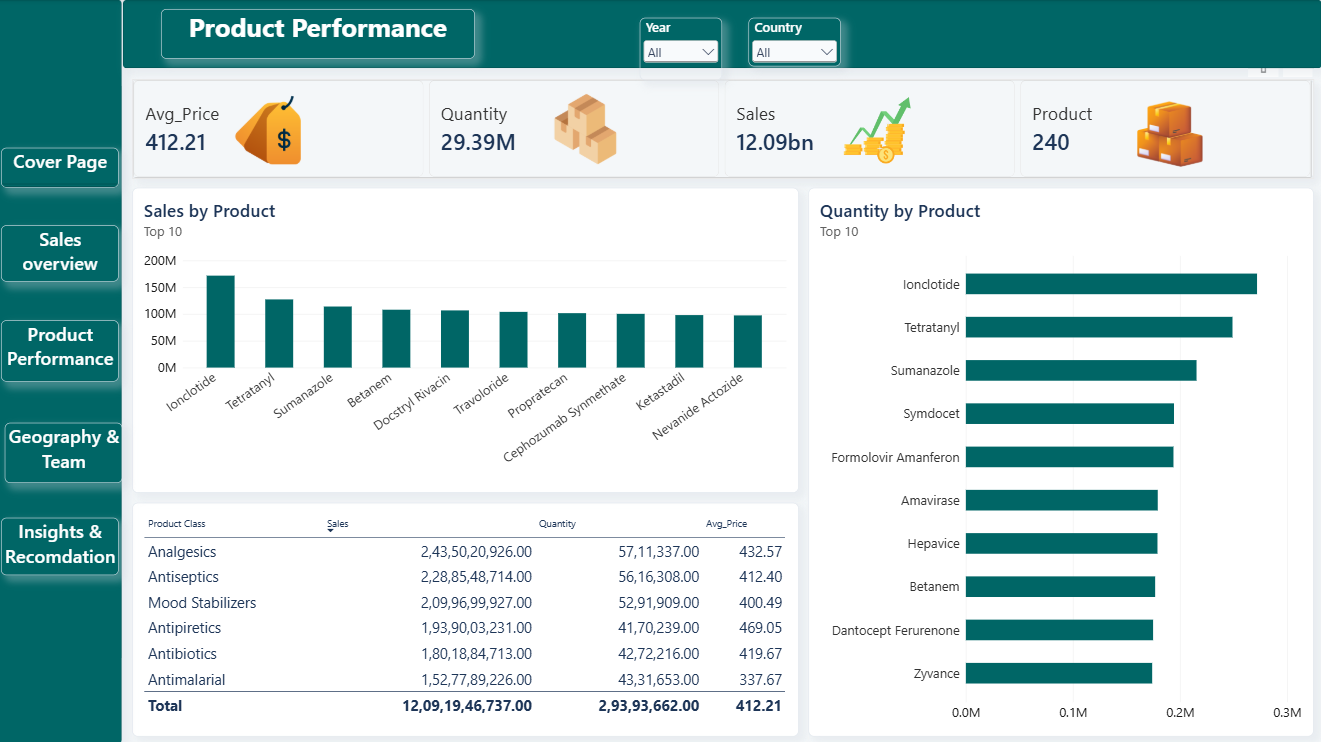

The dashboard page shown, as its layout file describes it:
{"tool":"powerbi","page":{"name":"Product Performance","canvas":[1920,1080],"ordinal":2},"visuals":[{"type":"cardVisual","fields":{"Data":["pharma-data.avg_price","pharma-data.total_quantity","pharma-data.total_sales","pharma-data.Product"]},"box":[197.3,115.8,1710.1,144.8],"z":0},{"type":"tableEx","fields":{"Values":["pharma-data.Product Class","pharma-data.total_sales","pharma-data.total_quantity","pharma-data.avg_price"]},"box":[197.3,729.3,964.5,338.4],"z":1000},{"type":"columnChart","title":"Sales by Product ","fields":{"Category":["pharma-data.Product Name"],"Y":["Sum(pharma-data.Sales)"]},"box":[197.3,273.3,964.5,441.6],"z":2000},{"type":"shape","box":[0,0,183.2,1080.6],"z":3000},{"type":"clusteredBarChart","title":"Quantity by Product","fields":{"Category":["pharma-data.Product Name"],"Y":["pharma-data.total_quantity"]},"box":[1176.3,273.3,731.1,794.4],"z":4000},{"type":"shape","box":[182.7,0,1737.3,101.3],"z":5000},{"type":"slicer","fields":{"Values":["pharma-data.Year"]},"box":[932,27.1,119.4,90.5],"z":6000},{"type":"slicer","fields":{"Values":["pharma-data.Country"]},"box":[1089.4,27.1,133.9,70.6],"z":7000},{"type":"textbox","box":[238.9,14.5,454.2,72.4],"z":8000},{"type":"image","box":[790.8,133.9,124.9,108.6],"z":9000},{"type":"image","box":[338.4,135.7,114,108.6],"z":10000},{"type":"image","box":[1223.3,135.7,105,108.6],"z":11000},{"type":"image","box":[1632.3,148.4,133.9,94.1],"z":12000},{"type":"shape","title":"Cover Page","box":[7.2,215.3,170.1,57.9],"z":13000},{"type":"shape","title":"Sales overview","box":[7.2,327.5,170.1,81.4],"z":14000},{"type":"shape","title":"Product Performance","box":[7.2,465.1,170.1,88.7],"z":15000},{"type":"shape","title":"Geography & Team","box":[12.7,613.5,170.1,86.9],"z":16000},{"type":"shape","title":"Insights & Recomdation","box":[7.2,751,170.1,83.2],"z":17000}]}

Visuals, with their boxes in screenshot pixels (x1, y1, x2, y2), scaled from the page's 1920x1080 canvas onto the 1321x742 screenshot:
cardVisual - pharma-data.avg_price x pharma-data.total_quantity: 136, 80, 1312, 179
tableEx - pharma-data.Product Class x pharma-data.total_sales: 136, 501, 799, 734
"Sales by Product " columnChart: 136, 188, 799, 491
shape: 0, 0, 126, 741
"Quantity by Product" clusteredBarChart: 809, 188, 1312, 734
shape: 126, 0, 1320, 70
slicer - pharma-data.Year: 641, 19, 723, 81
slicer - pharma-data.Country: 750, 19, 842, 67
textbox: 164, 10, 477, 60
image: 544, 92, 630, 167
image: 233, 93, 311, 168
image: 842, 93, 914, 168
image: 1123, 102, 1215, 167
"Cover Page" shape: 5, 148, 122, 188
"Sales overview" shape: 5, 225, 122, 281
"Product Performance" shape: 5, 320, 122, 380
"Geography & Team" shape: 9, 421, 126, 481
"Insights & Recomdation" shape: 5, 516, 122, 573
